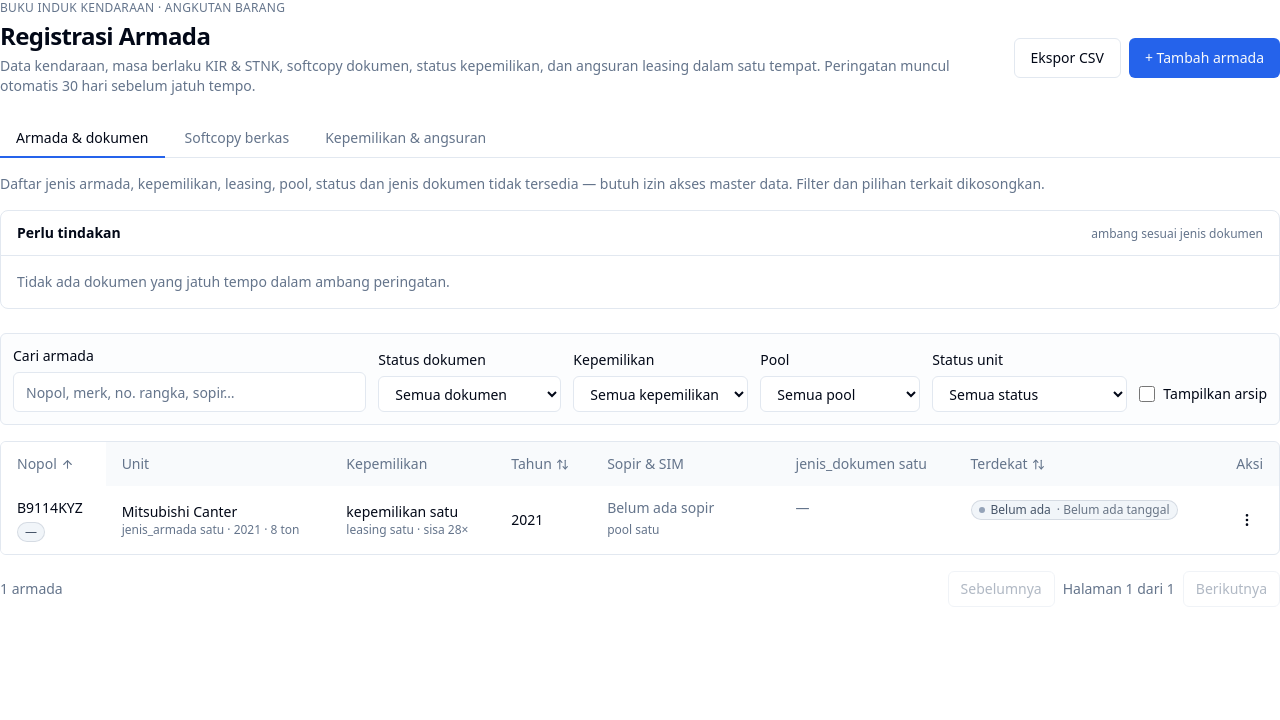
Test: FleetVehiclesPage › feeds the leasing and document lists to the form dialog
Click the button "+ Tambah armada".
click(1204, 58)  # box [1129, 38, 1279, 78]
(page scrolled)
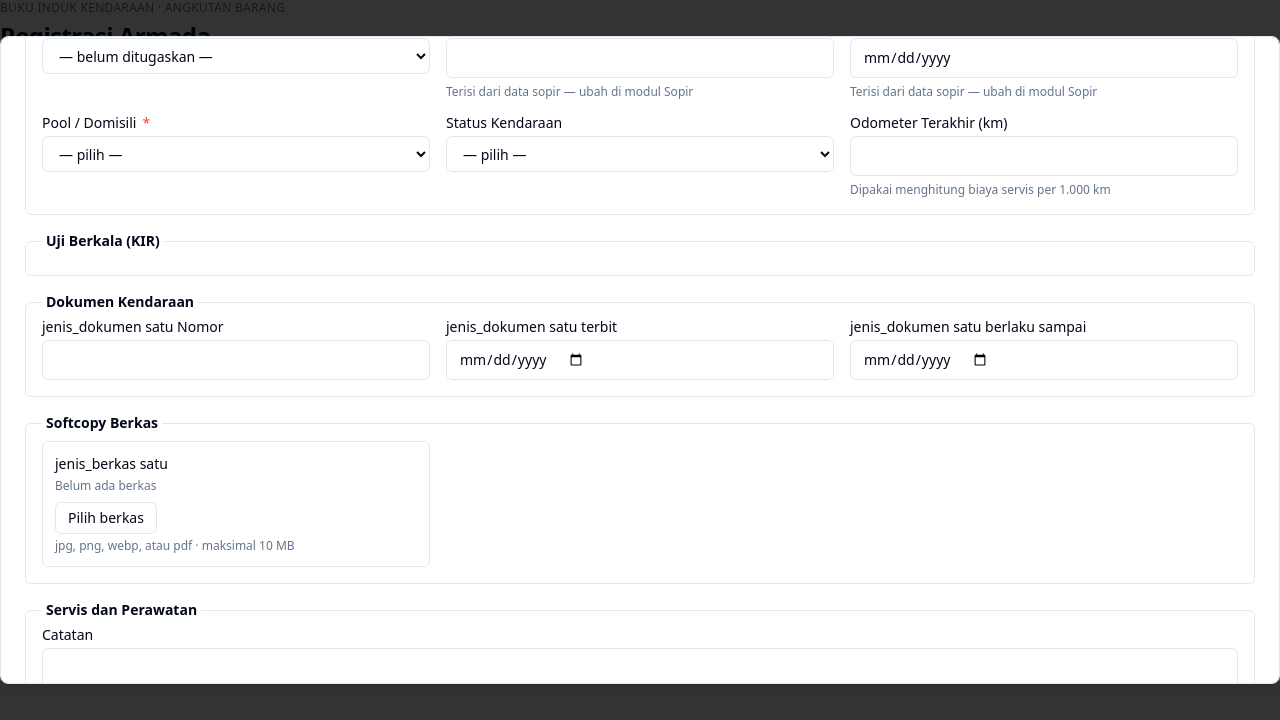
Check: the date field labelled "jenis_dokumen satu berlaku sampai" is shown, box [850, 340, 1238, 380]
